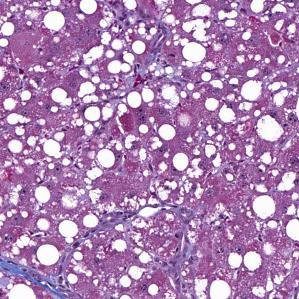fibrosis: (0, 253, 81, 299)
